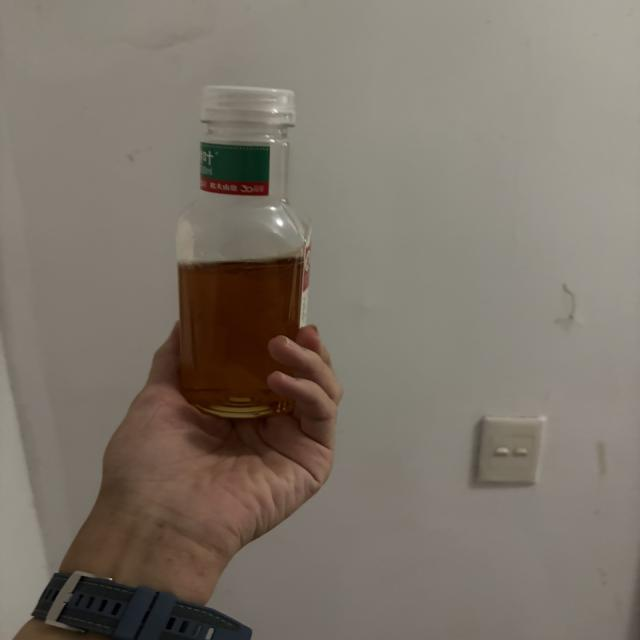high: (177, 86, 311, 418)
